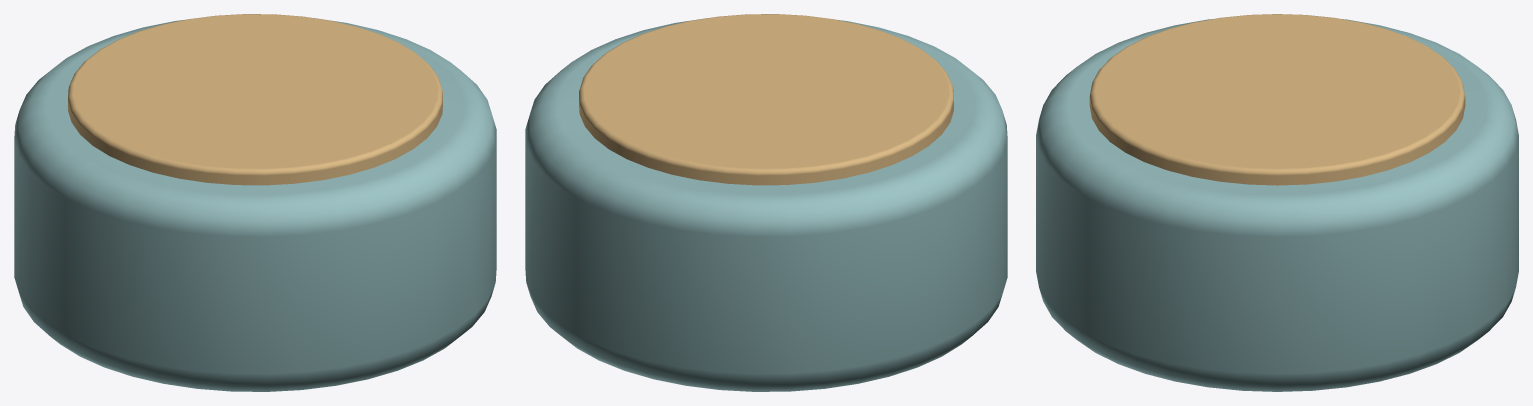
Rendered from plinth.glb.
The picture shows the model from 3 angles, left to right: view 1: azimuth 30°, elevation 25°; view 2: azimuth 150°, elevation 25°; view 3: azimuth 270°, elevation 25°; orthographic projection.
Visible parts, largest first — view 1: plinth; view 2: plinth; view 3: plinth.
Boxes of the visible parts, <box> form: plinth: <box>14,14,496,391</box>; plinth: <box>525,14,1007,391</box>; plinth: <box>1036,14,1518,391</box>.
Size of the model in its own units: 1.8 by 0.86 by 1.8.
